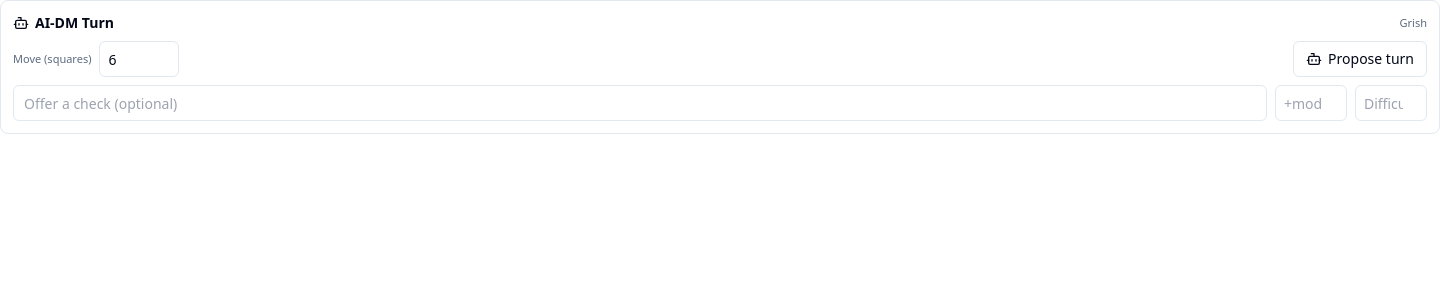
Test: DmTurnPanel › discards a proposal without applying it
What coordinates should you click on to do the following:
click the button "Propose turn"
I would click on:
 (1360, 59)
Its box is [1293,41,1427,77].
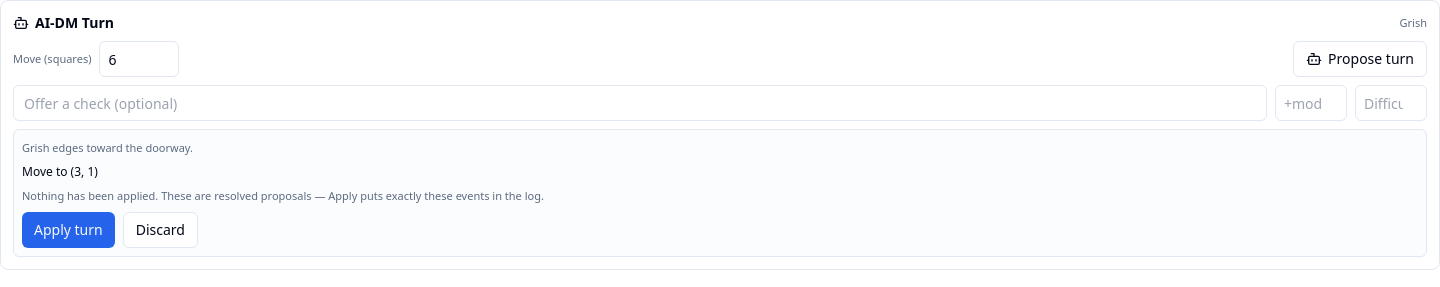
Check: the list item "Move to (3, 1)" is shown, box [22,163,98,180]
What coordinates should you click on to do the following:
click the button "Discard"
I would click on:
 (160, 230)
Its box is [123,212,198,248].
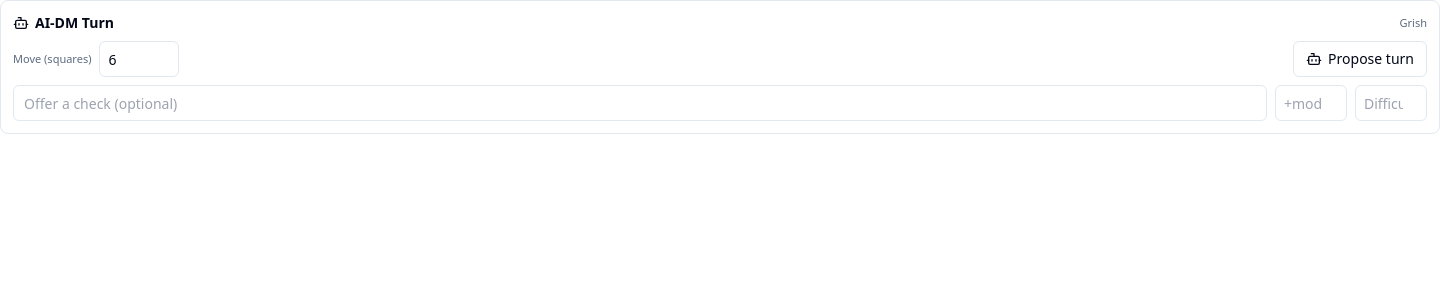
Check: the list item "Move to (3, 1)" is gone
